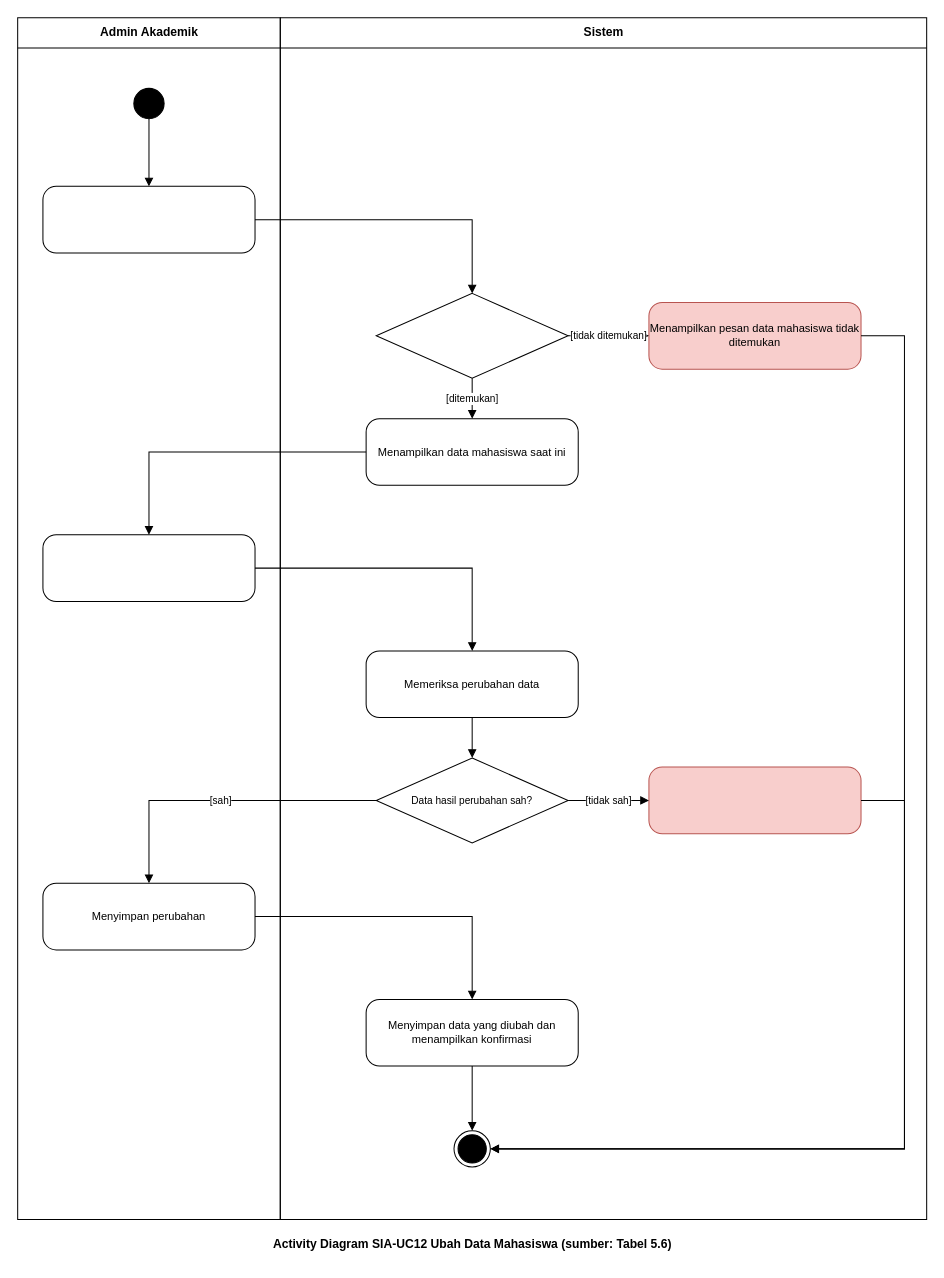
Image size: 944x1278. Some labels were removed from this diagram. The centre of each missing label's shape, as x and y in pixels:
"Data mahasiswa ditemukan?" goes at (x=471, y=335).
"Memilih data mahasiswa yang akan diubah" goes at (x=148, y=219).
"Mengubah data mahasiswa" goes at (x=148, y=567).
"Menolak penyimpanan dan meminta Admin Akademik memperbaiki data" goes at (x=754, y=800).
